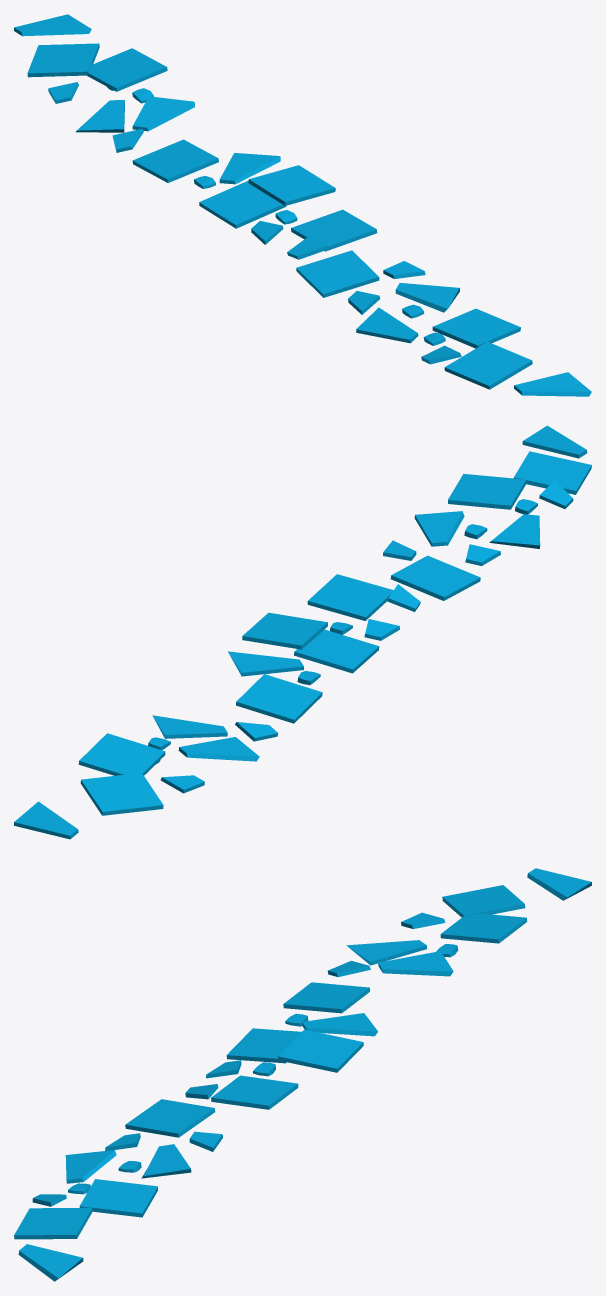
The model's file is Debris_Tile_02B.fbx.
3 renders of one model, top to bottom at view 1: azimuth 30°, elevation 25°; view 2: azimuth 150°, elevation 25°; view 3: azimuth 330°, elevation 25°, orthographic. The views are drawn at different scales.
Visible parts, largest first — view 1: Debris_Tile_02B; view 2: Debris_Tile_02B; view 3: Debris_Tile_02B.
Boxes of the visible parts, x1,y1,x2,y2 form: Debris_Tile_02B: (14, 14, 591, 396); Debris_Tile_02B: (14, 425, 591, 839); Debris_Tile_02B: (14, 868, 591, 1281).
Size of the model in its own units: 76.03 by 10.87 by 545.
